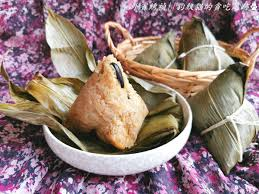zongzi: (65, 55, 148, 149), (188, 63, 258, 173), (179, 17, 233, 70), (134, 31, 177, 68)
